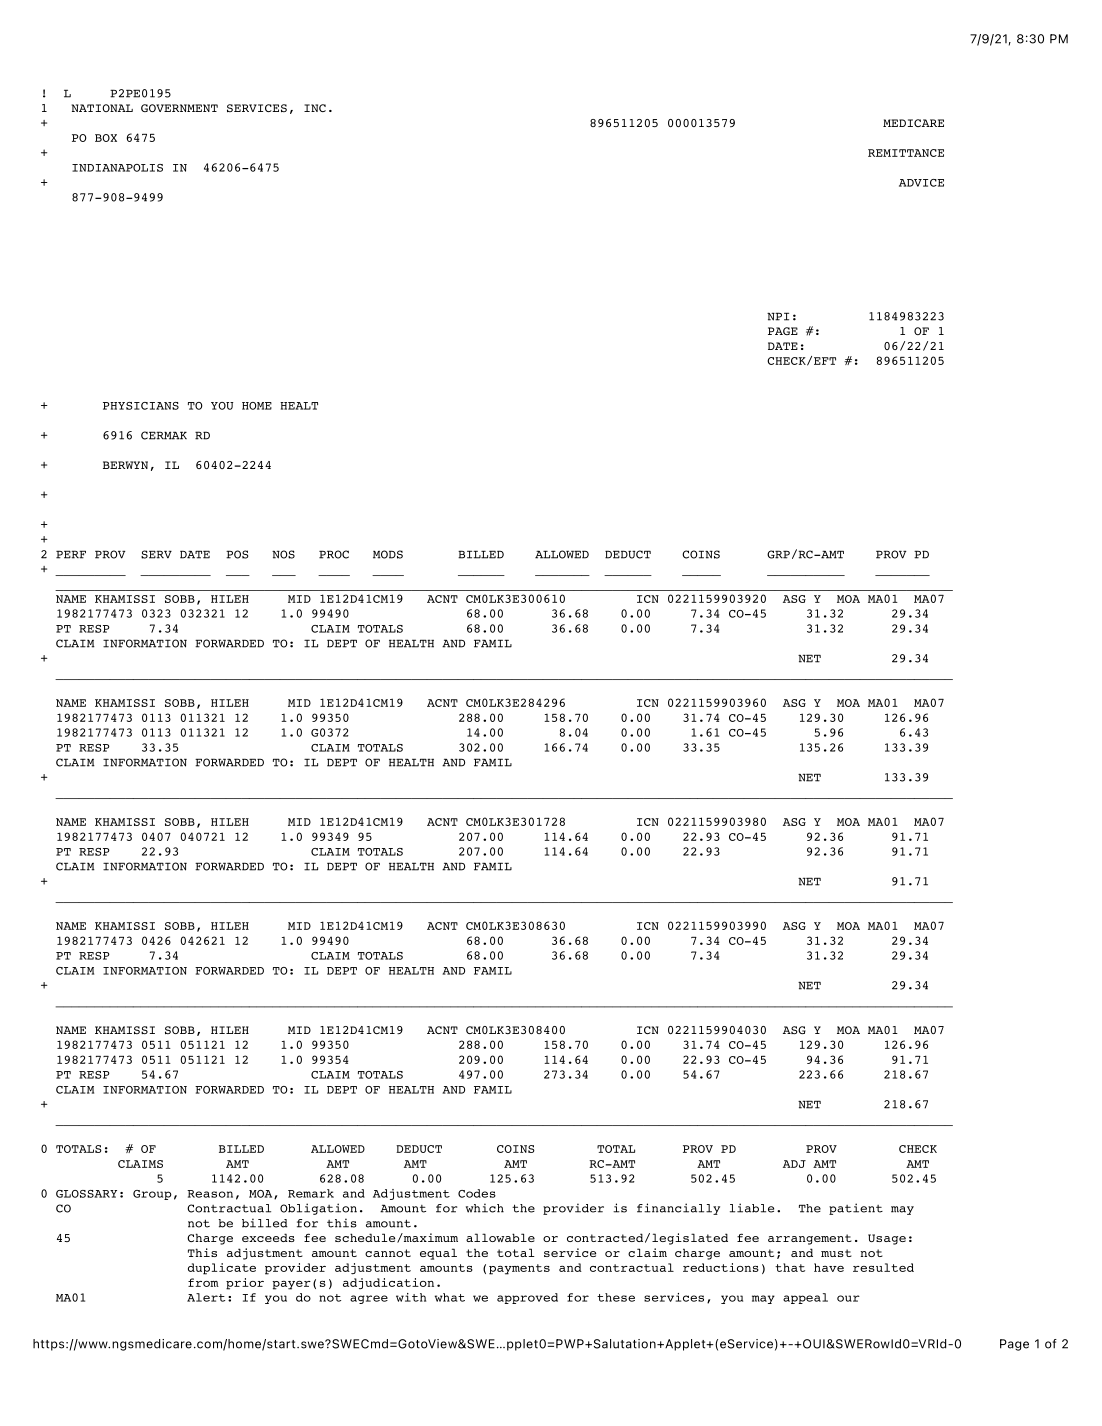data: (91, 376, 335, 482), (755, 295, 955, 381)
table: (51, 535, 957, 1190)
